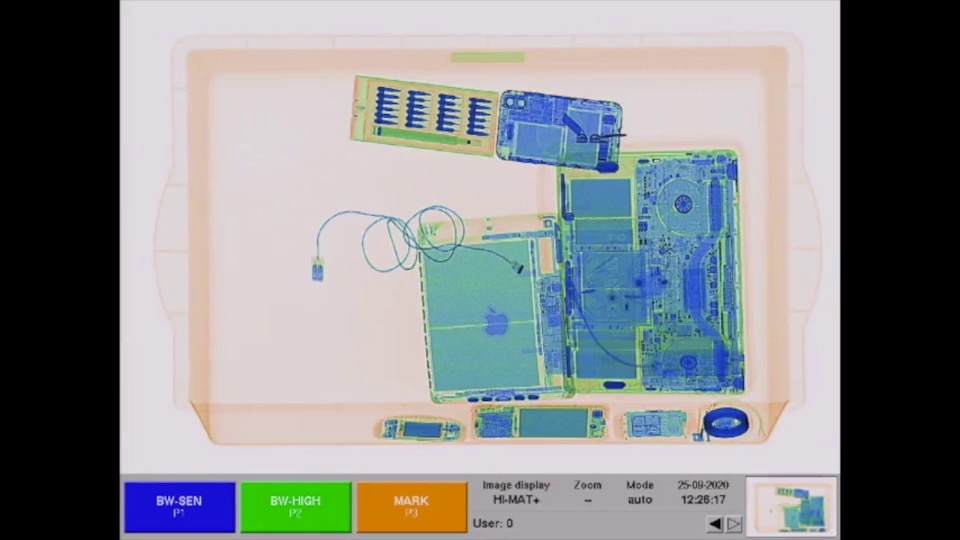tray_img: (146, 24, 827, 454)
